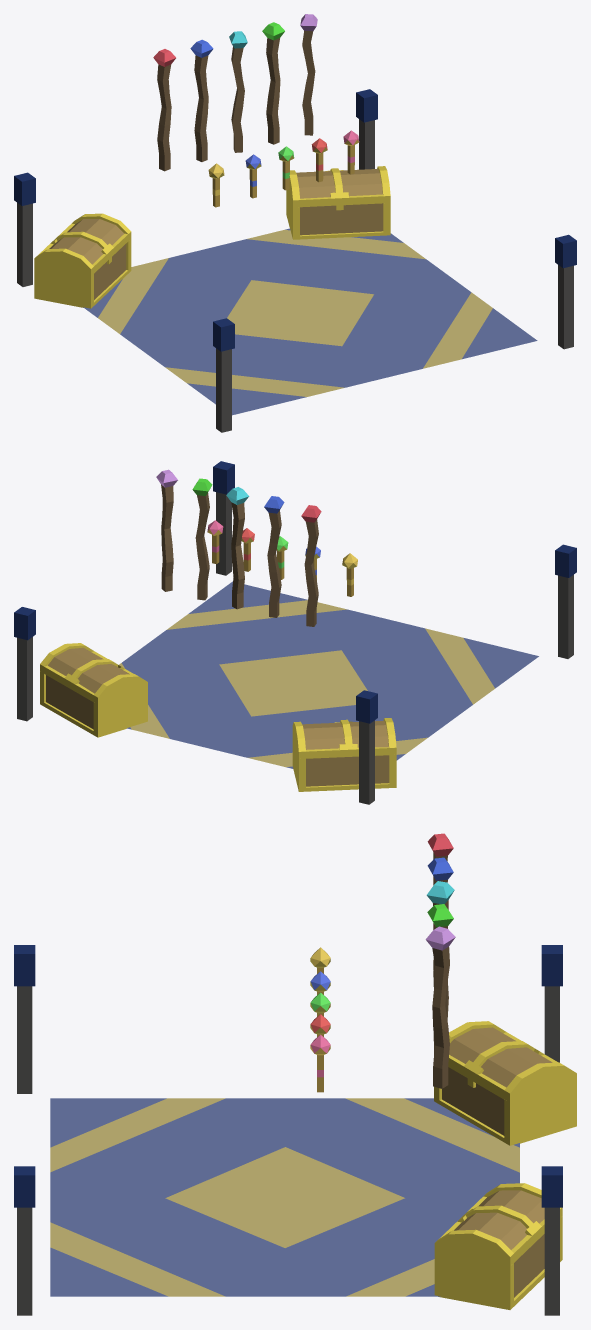
Rendered from MageStore.fbx.
3 renders of one model, top to bottom at view 1: azimuth 30°, elevation 25°; view 2: azimuth 150°, elevation 25°; view 3: azimuth 270°, elevation 25°, orthographic. The views are drawn at different scales.
Parts seen in each view (by area): view 1: Plane, Cube.024, Cube.020, Cube.021, Cube.022, Cube.008, Cube.010, Cube.012, Cube.001, Cube.002, Cube.006, Cube.009 (+6 smaller); view 2: Plane, Cube.020, Cube.021, Cube.024, Cube.022, Cube.009, Cube.011, Cube.008, Cube.012, Cube.010, Cube.006, Cube.005 (+6 smaller); view 3: Plane, Cube.024, Cube.020, Cube.022, Cube.021, Cube.011, Cube.002, Cube.005, Cube.001, Cube.006, Cube.003, Cube.004 (+3 smaller).
Part boxes in pixels (left/top/right/bottom): Plane: left=83, top=228, right=537, bottom=415; Cube.024: left=34, top=213, right=131, bottom=276; Cube.020: left=288, top=166, right=390, bottom=210; Cube.021: left=286, top=190, right=390, bottom=239; Cube.022: left=34, top=239, right=131, bottom=308; Cube.008: left=190, top=39, right=213, bottom=161; Cube.010: left=262, top=22, right=284, bottom=144; Cube.012: left=153, top=49, right=175, bottom=171; Cube.001: left=216, top=348, right=231, bottom=432; Cube.002: left=558, top=265, right=573, bottom=349; Cube.006: left=17, top=203, right=32, bottom=286; Cube.009: left=229, top=31, right=247, bottom=152; Plane: left=119, top=581, right=538, bottom=768; Cube.020: left=40, top=643, right=147, bottom=704; Cube.021: left=40, top=671, right=147, bottom=737; Cube.024: left=292, top=718, right=396, bottom=758; Cube.022: left=292, top=734, right=396, bottom=791; Cube.009: left=226, top=487, right=249, bottom=609; Cube.011: left=156, top=469, right=177, bottom=591; Cube.008: left=264, top=496, right=284, bottom=617; Cube.012: left=301, top=505, right=321, bottom=626; Cube.010: left=192, top=478, right=212, bottom=600; Cube.006: left=359, top=720, right=374, bottom=804; Cube.005: left=17, top=637, right=32, bottom=721; Plane: left=50, top=1098, right=519, bottom=1296; Cube.024: left=448, top=1021, right=576, bottom=1102; Cube.020: left=434, top=1183, right=562, bottom=1266; Cube.022: left=434, top=1067, right=576, bottom=1145; Cube.021: left=434, top=1216, right=562, bottom=1309; Cube.011: left=425, top=926, right=455, bottom=1088; Cube.002: left=17, top=1207, right=32, bottom=1315; Cube.005: left=544, top=1207, right=559, bottom=1315; Cube.001: left=17, top=986, right=32, bottom=1093; Cube.006: left=544, top=986, right=559, bottom=1062; Cube.003: left=14, top=1166, right=35, bottom=1207; Cube.004: left=541, top=1166, right=562, bottom=1207.
Size of the model in its own units: 717 by 457 by 734.
